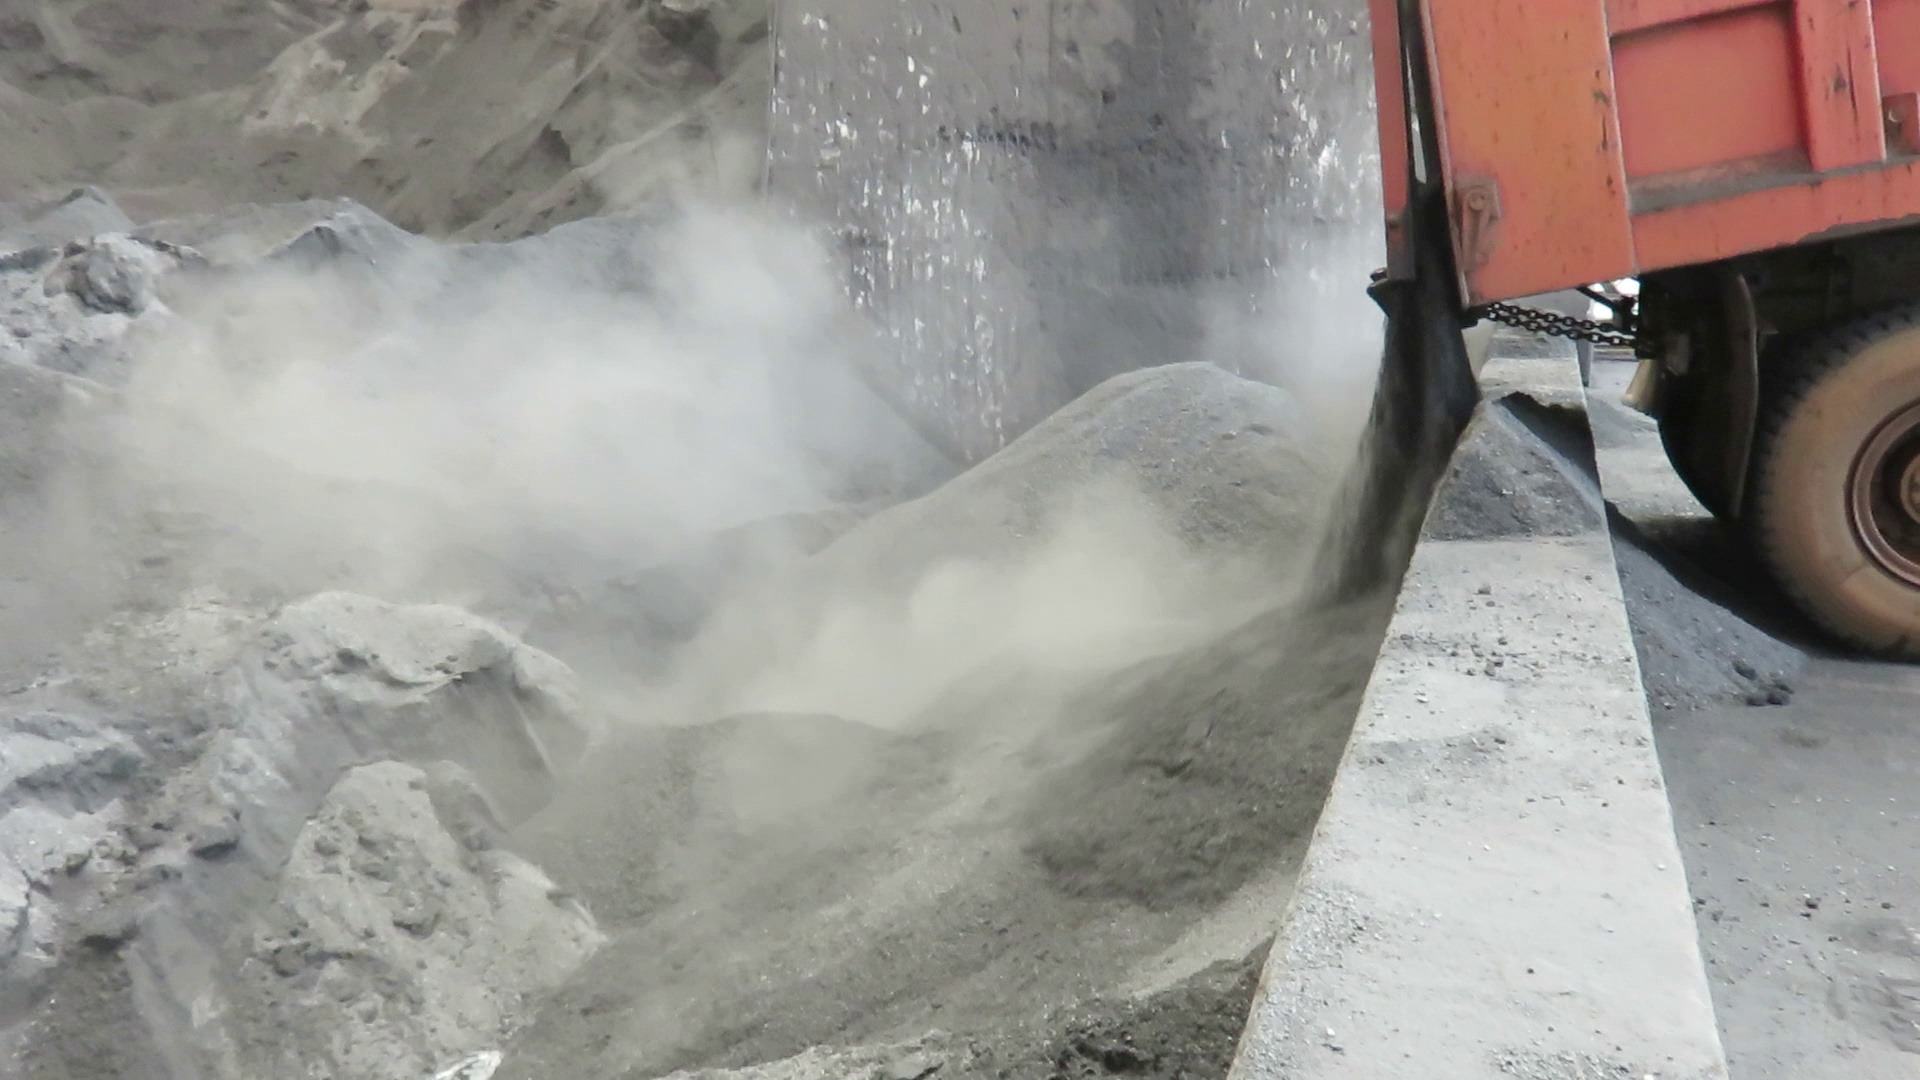dust: (28, 171, 1385, 932)
truck: (1360, 0, 1920, 688)
